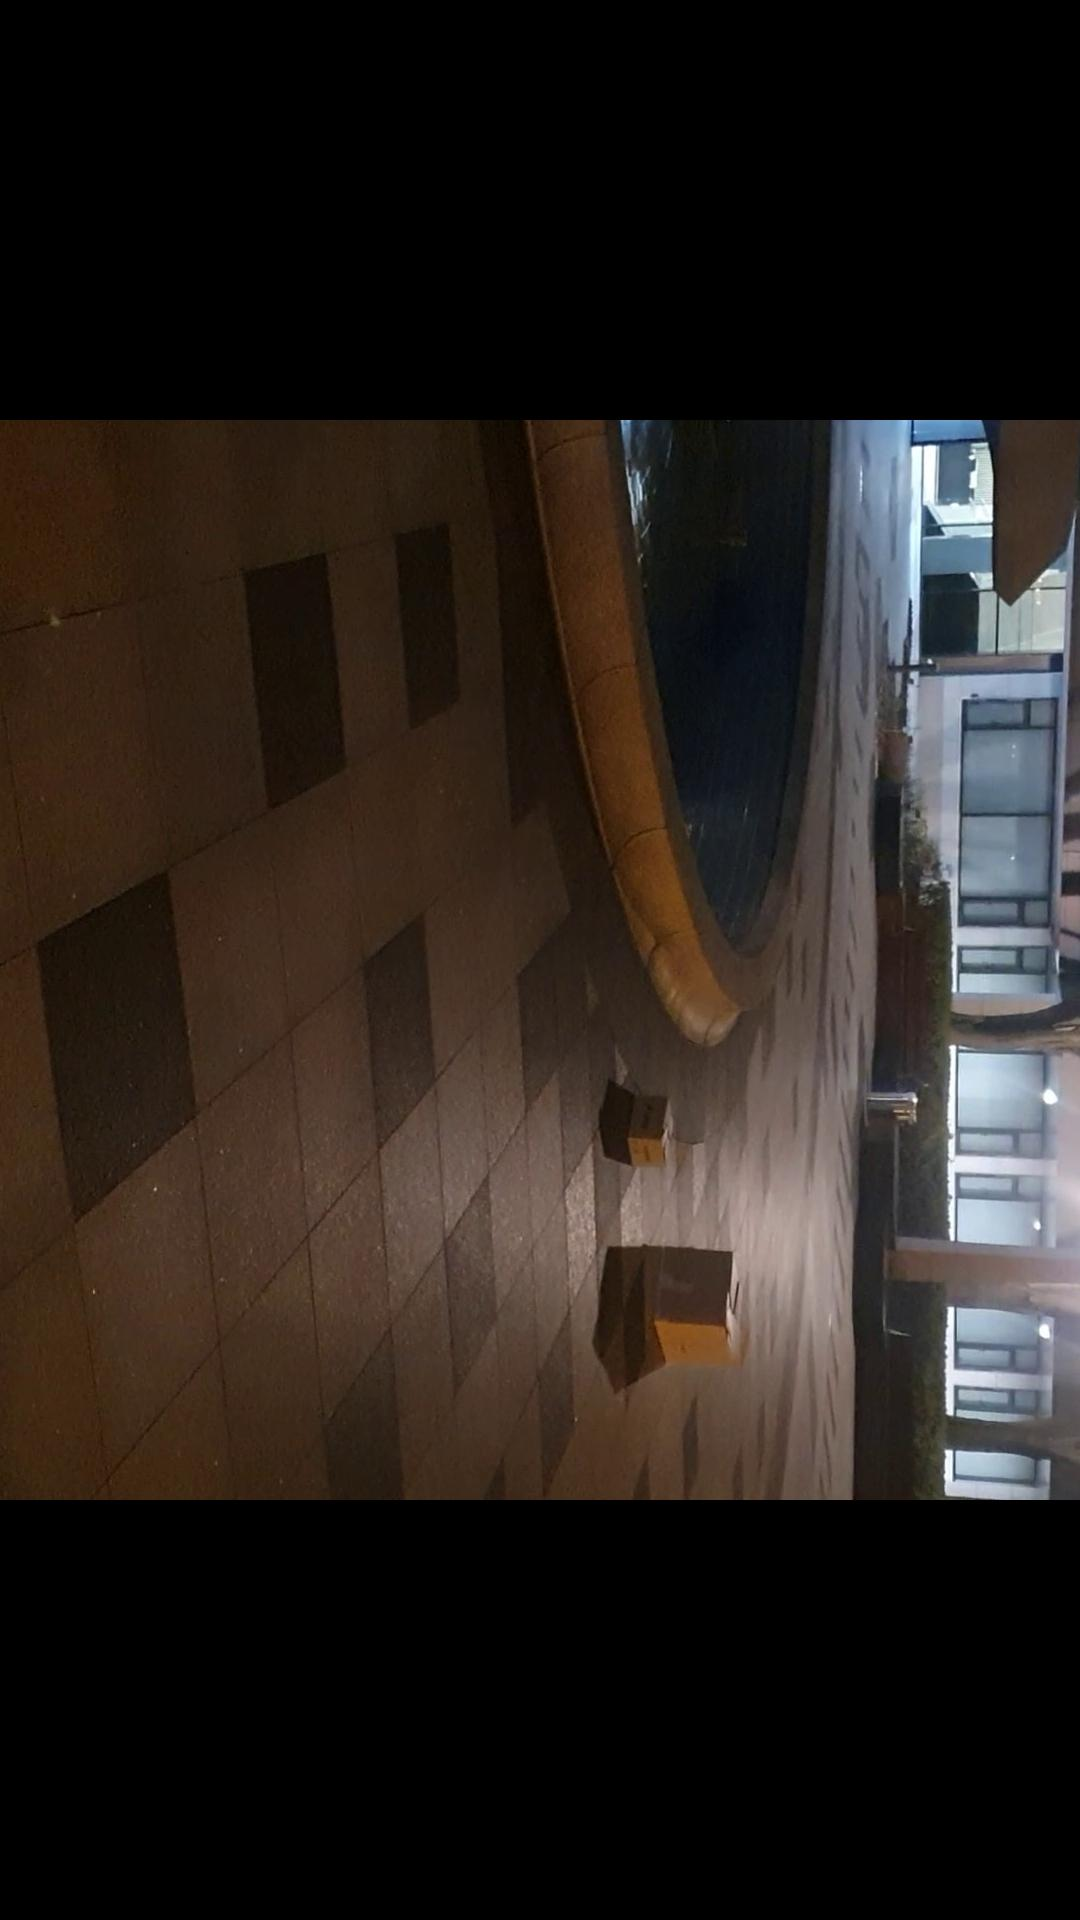Box: (625, 1233, 752, 1364), (615, 1093, 682, 1168)
